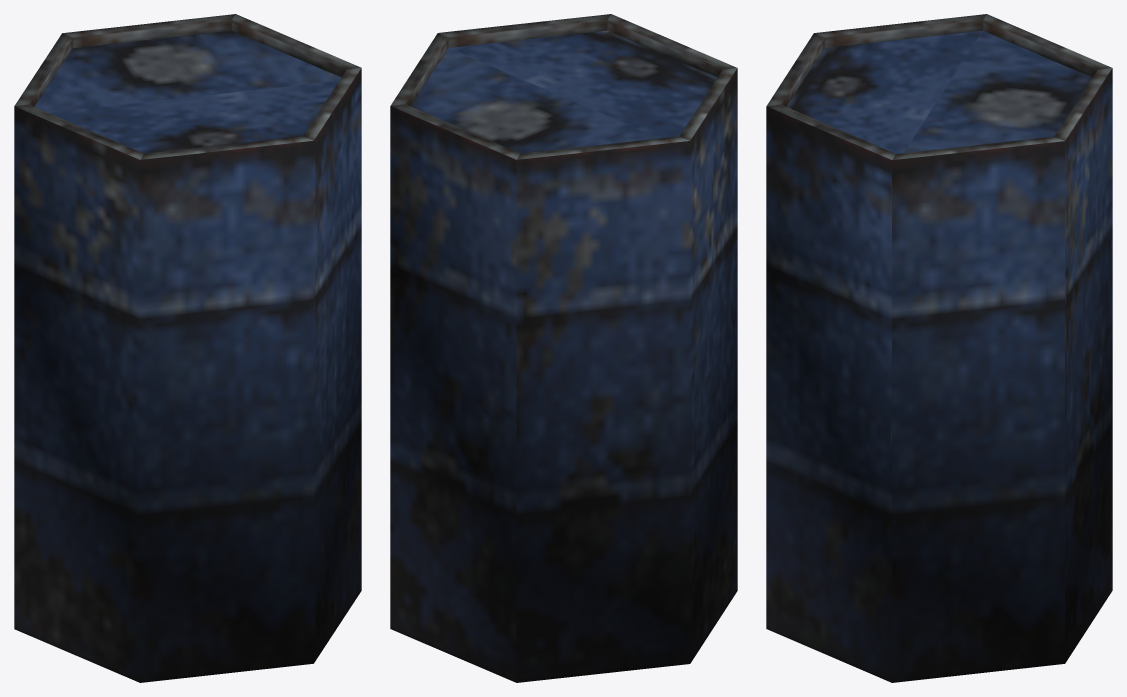
The model's file is SM_EC_55L_Drum_05.fbx.
The picture shows the model from 3 angles, left to right: view 1: azimuth 30°, elevation 25°; view 2: azimuth 150°, elevation 25°; view 3: azimuth 270°, elevation 25°; orthographic projection.
Parts seen in each view (by area): view 1: SM_EC_55L_Drum_05; view 2: SM_EC_55L_Drum_05; view 3: SM_EC_55L_Drum_05.
Part boxes in pixels (left/top/right/bottom): SM_EC_55L_Drum_05: left=14, top=14, right=361, bottom=682; SM_EC_55L_Drum_05: left=390, top=14, right=737, bottom=682; SM_EC_55L_Drum_05: left=766, top=14, right=1112, bottom=682.
Size of the model in its own units: 0.6 by 0.6 by 1.
